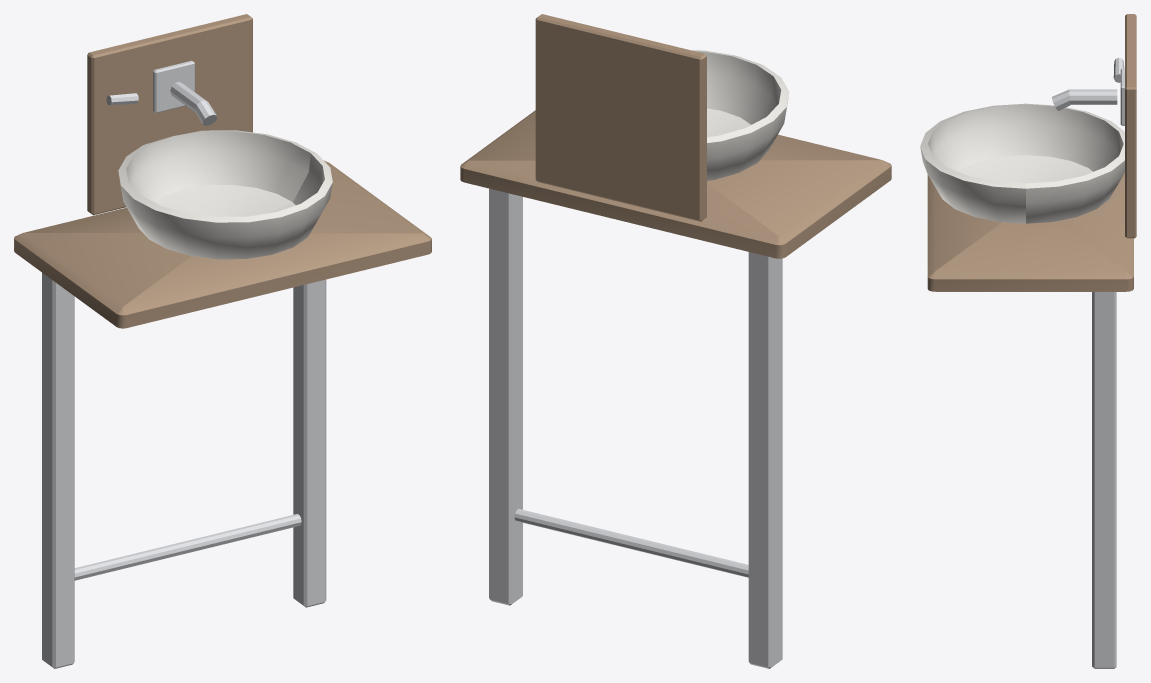
File: hotel-and-resort-operations-countertop-basin-shelf-6595f26d__25790.glb
The picture shows the model from 3 angles, left to right: view 1: azimuth 30°, elevation 25°; view 2: azimuth 150°, elevation 25°; view 3: azimuth 270°, elevation 25°; orthographic projection. The views are drawn at different scales.
Visible parts, largest first — view 1: countertop-basin-shelf; view 2: countertop-basin-shelf; view 3: countertop-basin-shelf.
Part boxes in pixels (box(x1,y1,x2,y2)): countertop-basin-shelf: box(14, 14, 431, 668); countertop-basin-shelf: box(460, 14, 891, 668); countertop-basin-shelf: box(920, 14, 1136, 668).
Size of the model in its own units: 0.7 by 1.25 by 0.4413.
